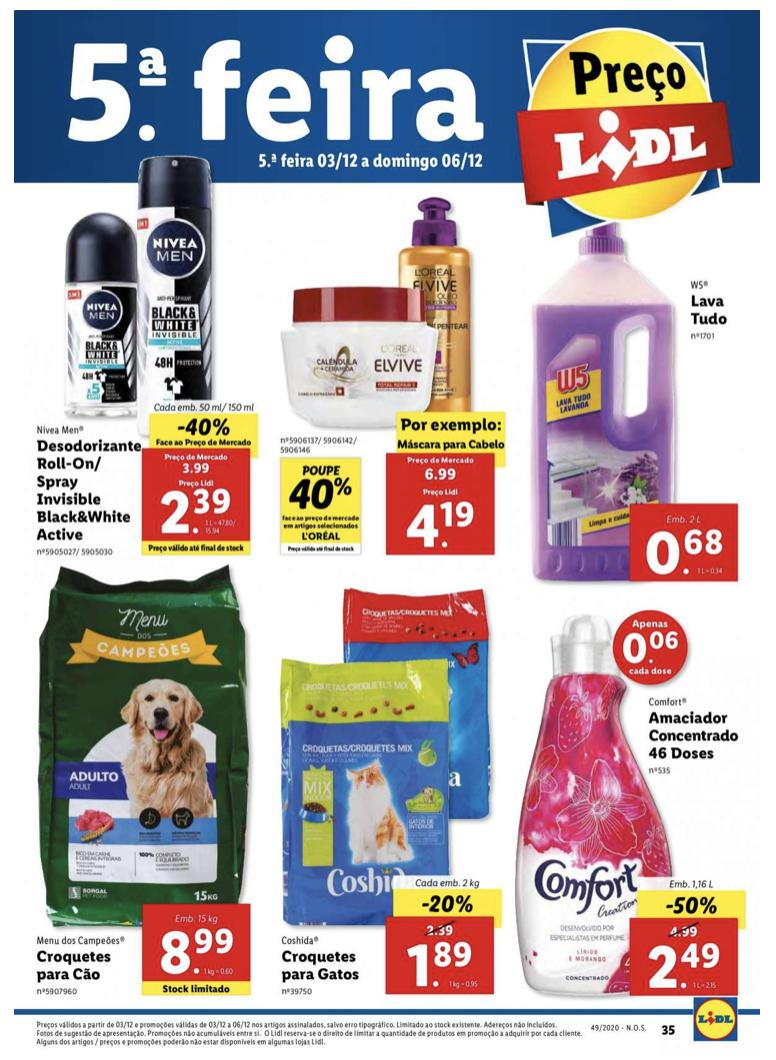name: (32, 436, 143, 542), (644, 709, 740, 763), (280, 948, 363, 984), (32, 950, 113, 984), (688, 290, 734, 330)
price: (155, 488, 244, 544), (643, 523, 727, 577), (646, 940, 723, 993), (156, 926, 236, 977), (402, 498, 477, 550), (406, 939, 476, 989)
product: (11, 557, 260, 1002), (260, 571, 517, 1002), (507, 598, 753, 1002), (510, 208, 759, 599), (11, 157, 252, 556), (267, 188, 505, 567)
promotion: (288, 473, 353, 514), (664, 894, 721, 918), (176, 415, 232, 439), (419, 892, 476, 915)
